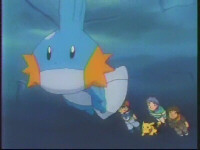mudkip: (20, 1, 131, 120)
pikachu: (139, 121, 163, 139)
